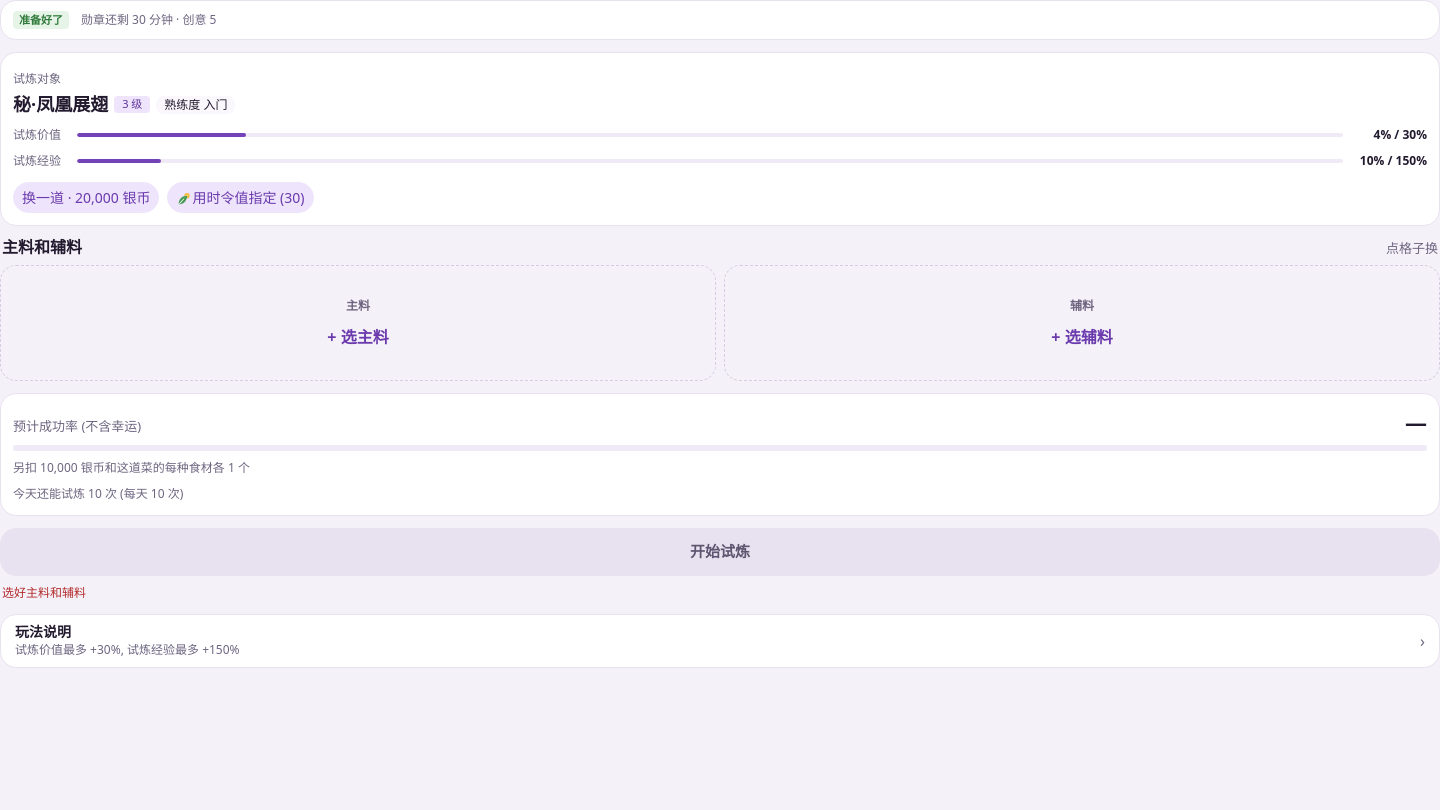
Test: TrialPanel › 有玩法说明，显示试炼对象当前的试炼价值和经验及上限（问题记录：试炼的选项说明不够）
expect the element with test id "trial-target" shows "熟练度 入门": met, box [164,96,227,112]
expect the elements with class "dt-trial-meter" read "试炼价值4% / 30%", "试炼经验10% / 150%", in this order: met, box [13,126,1427,144]; [13,152,1427,170]
Click the button with test id "trial-help": (43, 631) [1,614,1439,667]
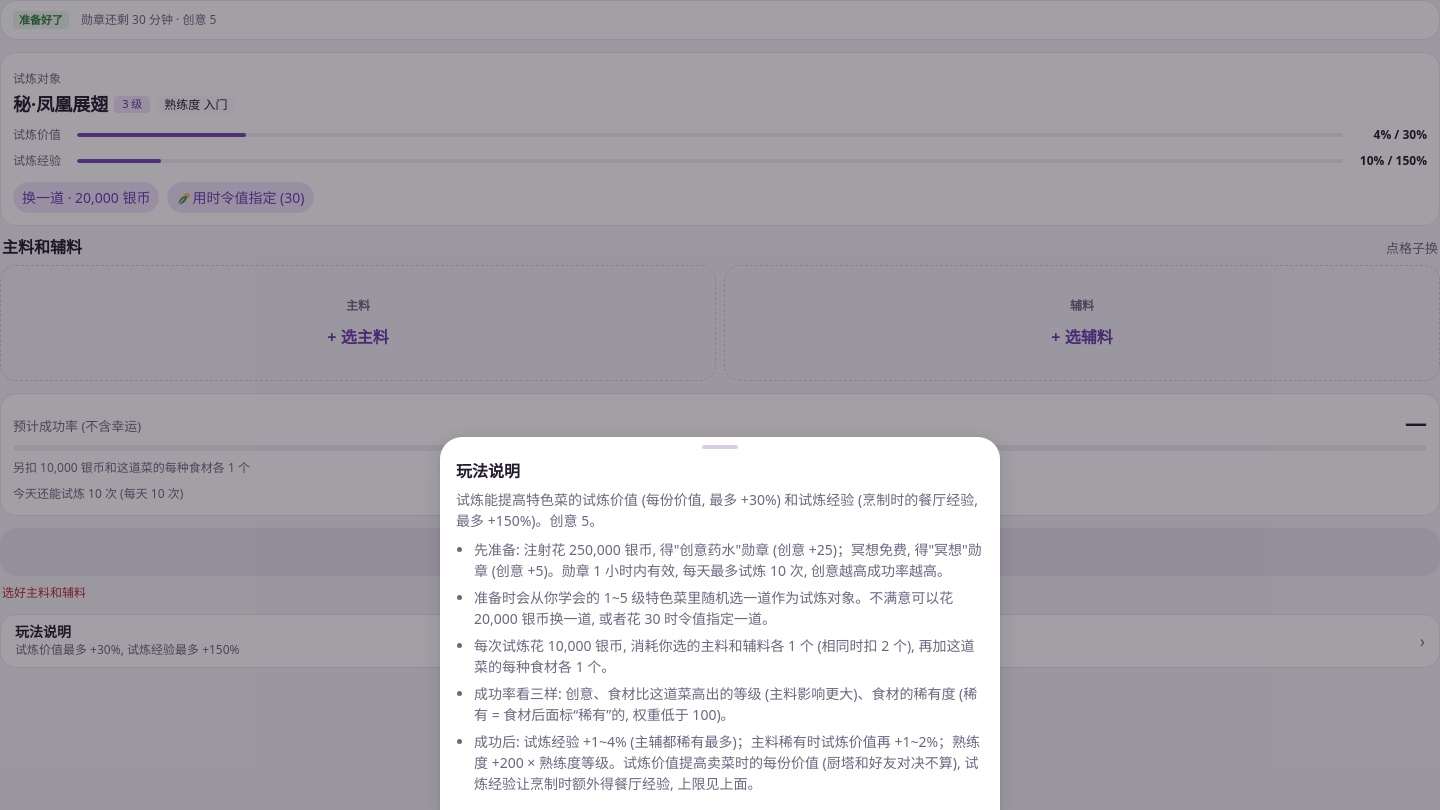
expect the element with class "dt-help" shows "注射": met, box [456,489,984,794]
expect the element with class "dt-help" shows "冥想": met, box [456,489,984,794]
expect the element with class "dt-help" shows "时令值": met, box [456,489,984,794]
